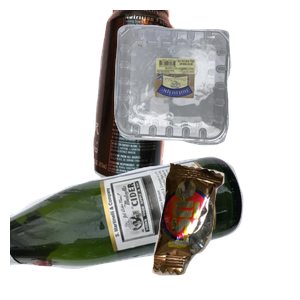glass: (10, 154, 246, 300)
metal: (91, 10, 258, 188)
plastic: (112, 22, 300, 160)
trash: (150, 160, 300, 300)
